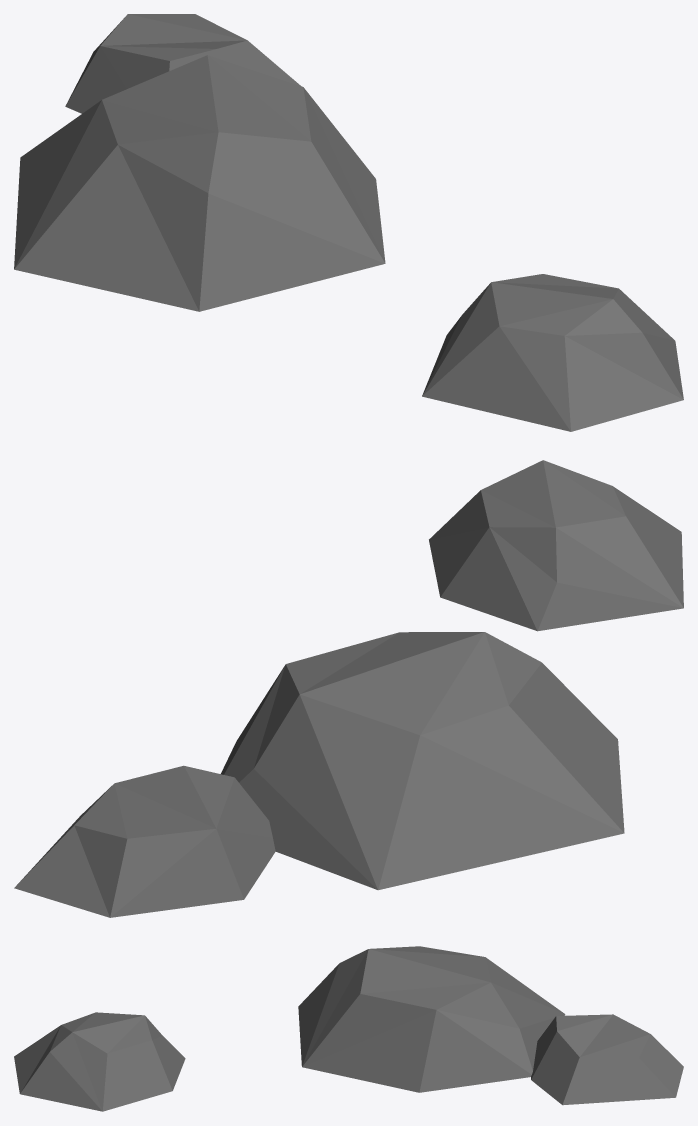
Rendered from SM_Generic_Small_Rocks_02.glb.
3 renders of one model, top to bottom at view 1: azimuth 30°, elevation 25°; view 2: azimuth 150°, elevation 25°; view 3: azimuth 270°, elevation 25°, orthographic. The views are drawn at different scales.
Parts seen in each view (by area): view 1: SM_Generic_Small_Rocks_02; view 2: SM_Generic_Small_Rocks_02; view 3: SM_Generic_Small_Rocks_02.
Part boxes in pixels (box(x1,y1,x2,y2)): SM_Generic_Small_Rocks_02: box(14, 14, 683, 431); SM_Generic_Small_Rocks_02: box(14, 460, 683, 917); SM_Generic_Small_Rocks_02: box(14, 946, 683, 1111).
Size of the model in its own units: 0.3569 by 0.0991 by 0.7434.
1 material, 1 textured.
